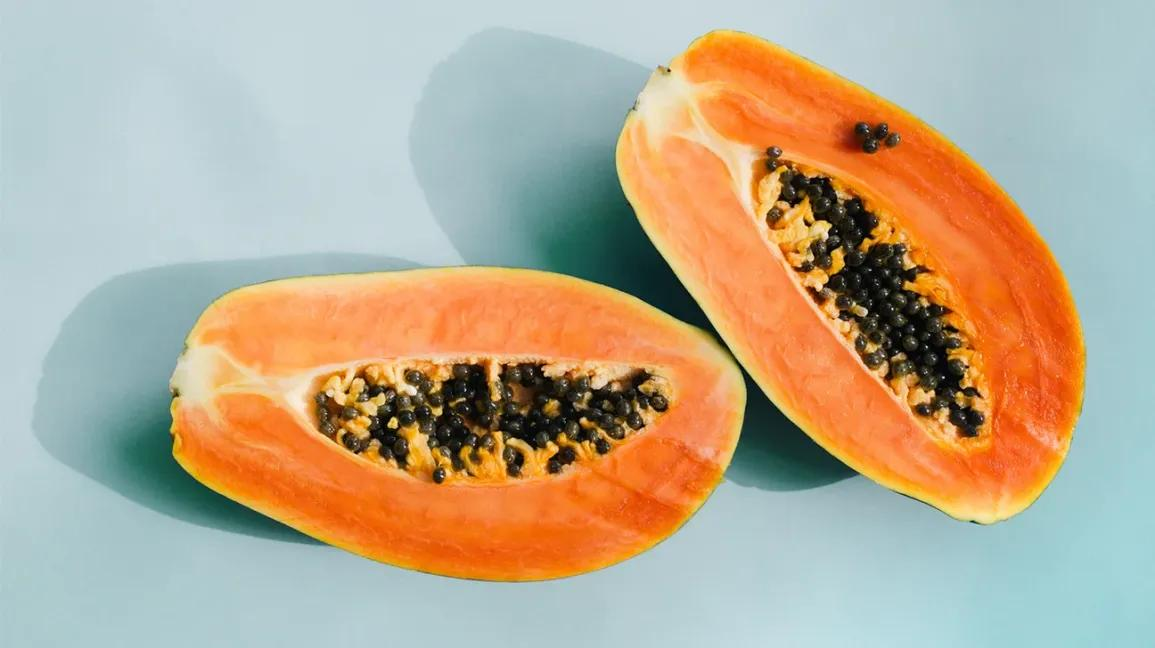papaya: (620, 27, 1099, 527), (136, 254, 754, 570)
